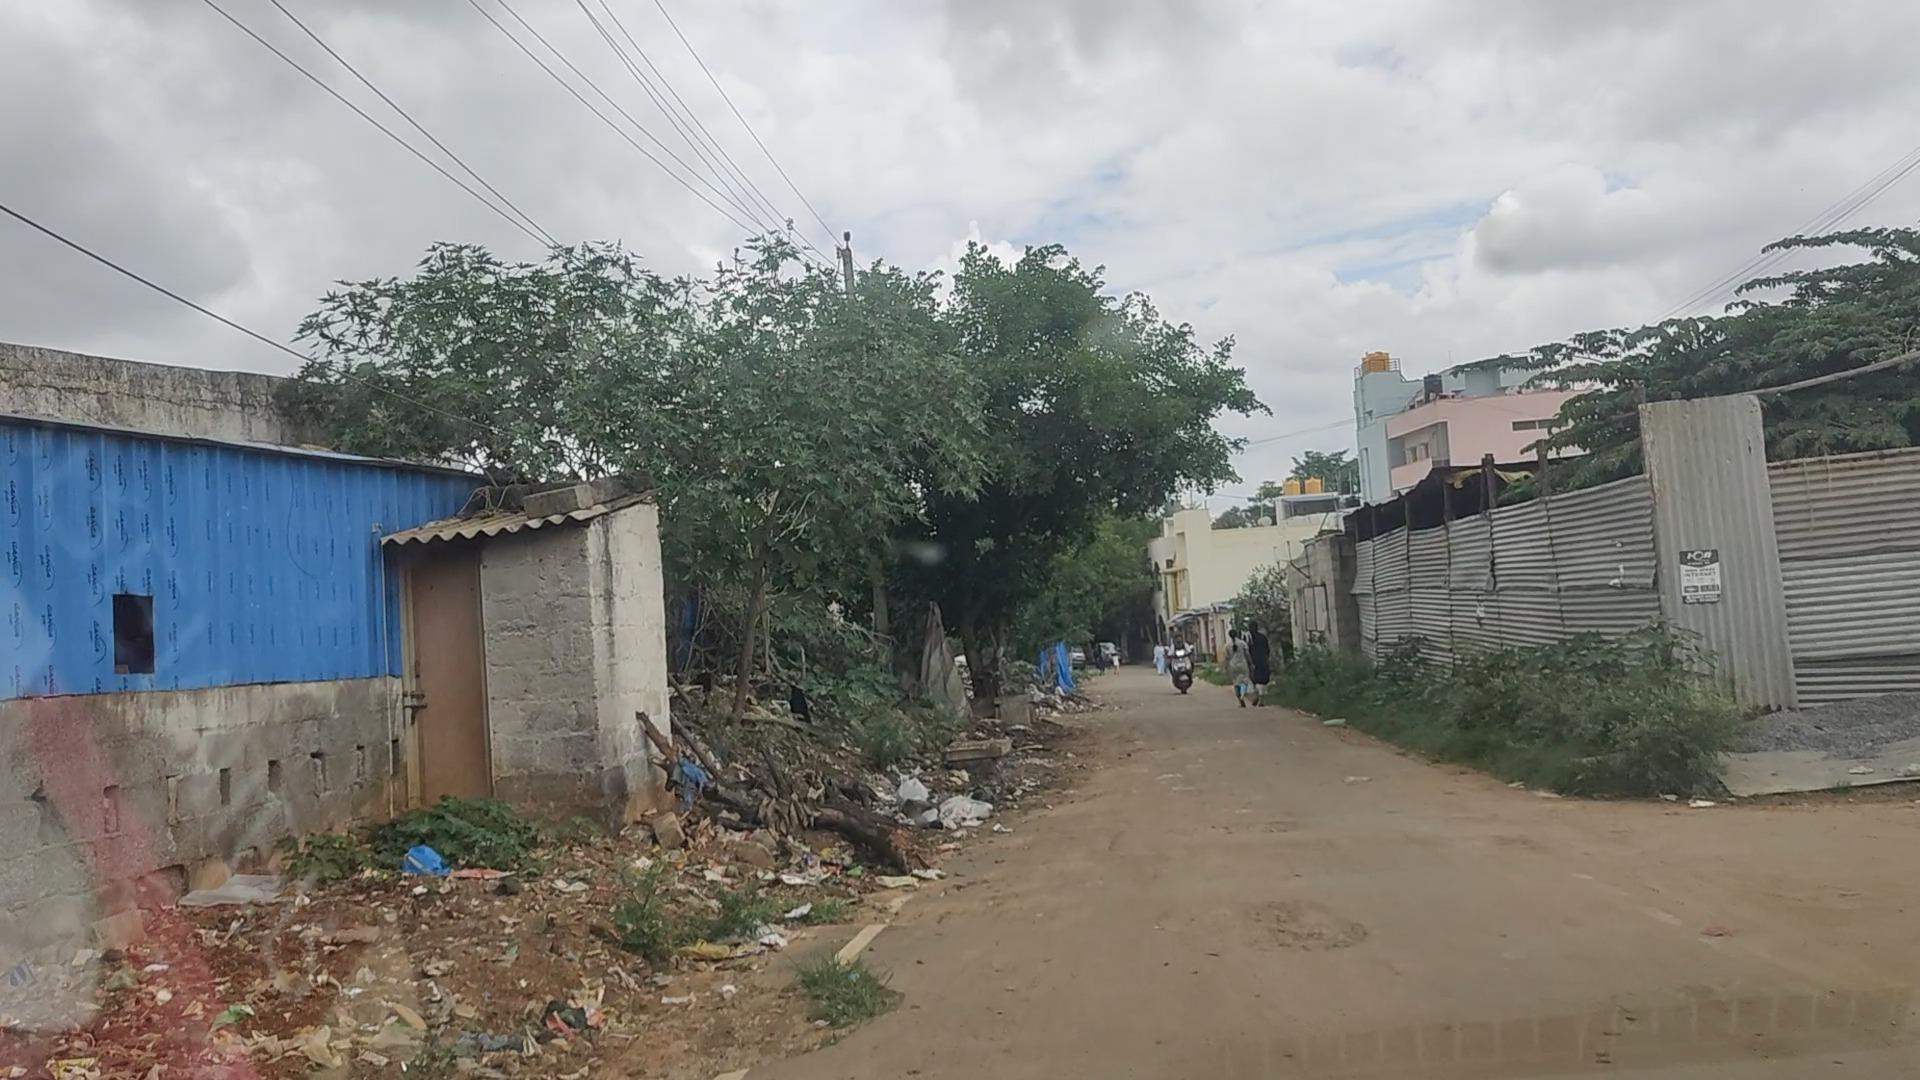RoadDamages: (1212, 877, 1387, 963)
